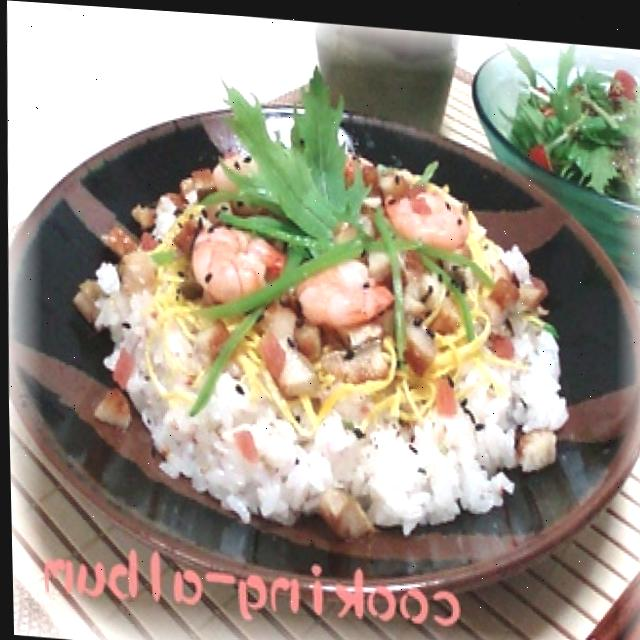寿司卷物: (53, 103, 575, 550)
